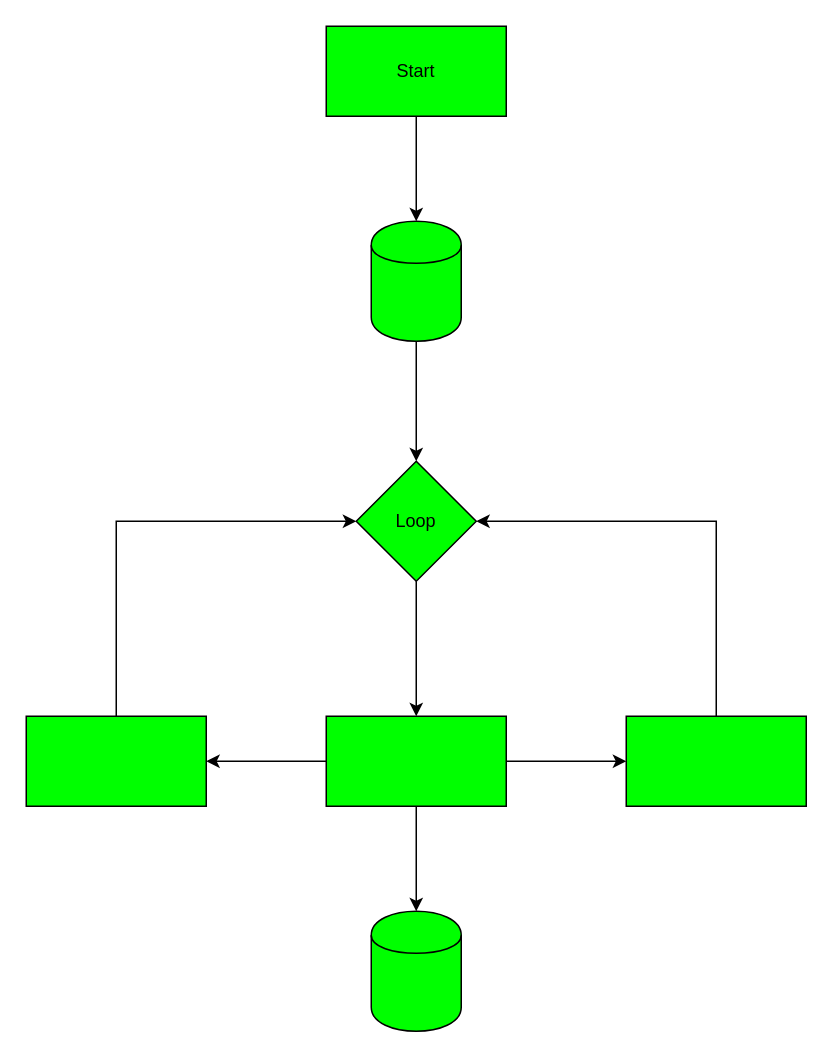
The diagram is 833 pixels wide and 1058 high, and some of its shapes have lost their labels. The box of each missing label's shape, as (x1, y1, x2, y2) in pixels:
Load: (370, 220, 461, 341)
Save: (370, 910, 461, 1031)
